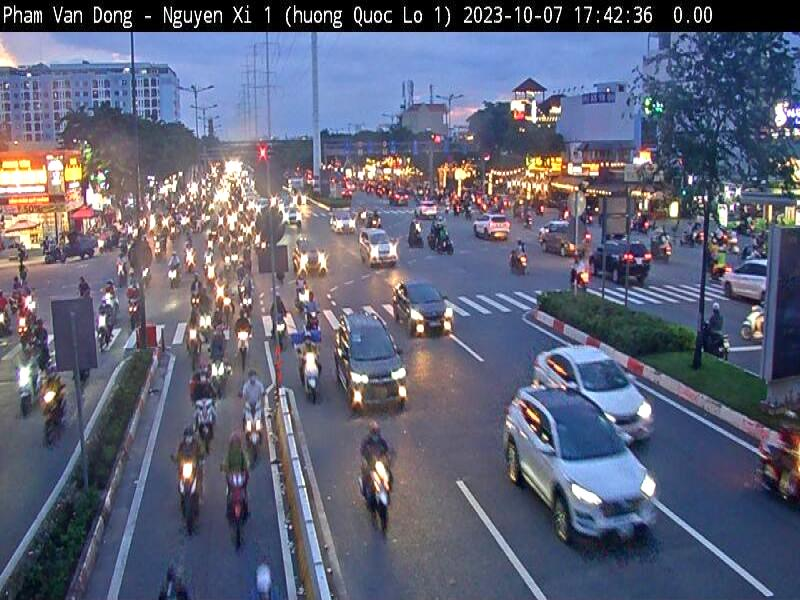car: (504, 388, 659, 542), (534, 345, 654, 445), (336, 314, 408, 411), (394, 278, 454, 339), (588, 238, 652, 282), (724, 258, 768, 306), (473, 212, 512, 241)
motorcycle: (194, 397, 217, 454)
